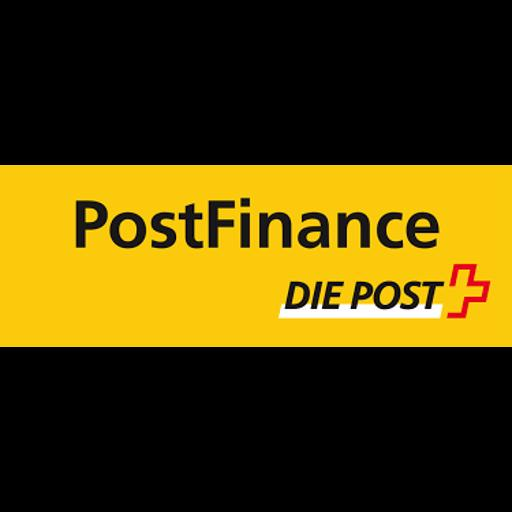PostFinance: (0, 165, 512, 347)
